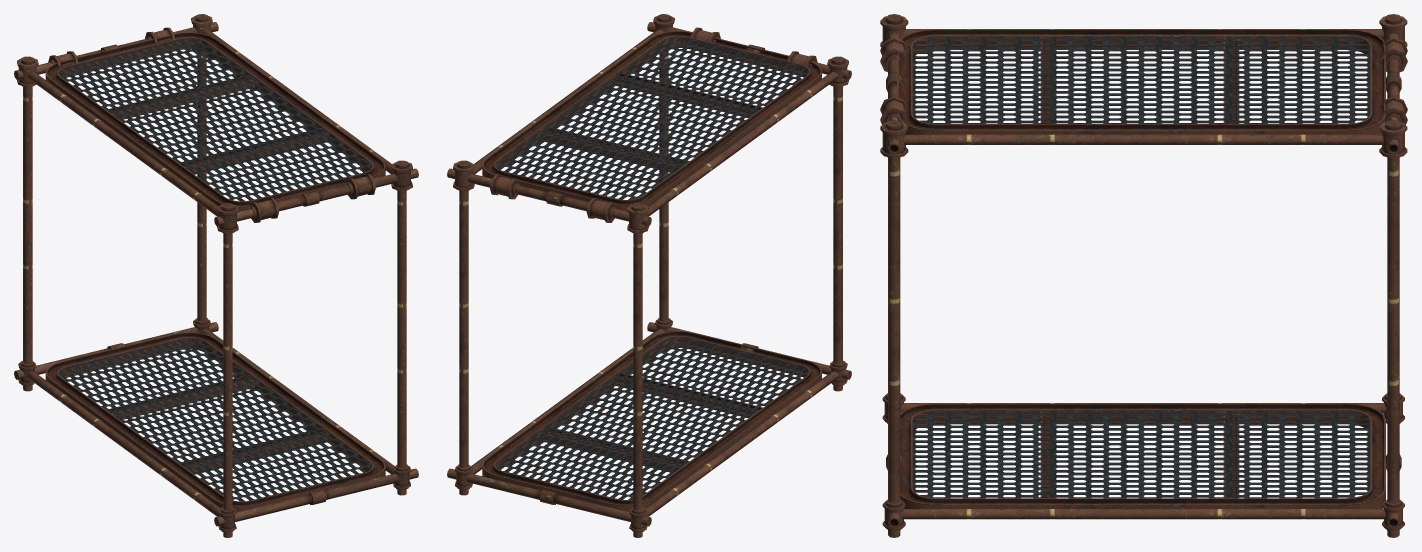
File: scaffold_walkway_hanging.dae
3 views of the same model, side by side, from view 1: azimuth 30°, elevation 25°; view 2: azimuth 150°, elevation 25°; view 3: azimuth 270°, elevation 25° (orthographic). The views are drawn at different scales.
Parts seen in each view (by area): view 1: polySurface127, pPlane1, pPlane3, polySurface131, polySurface130; view 2: polySurface127, pPlane1, pPlane3, polySurface131, polySurface130; view 3: pPlane3, pPlane1, polySurface127, polySurface131, polySurface130.
Part boxes in pixels (<box>): polySurface127: <box>14,14,418,537</box>; pPlane1: <box>59,38,372,201</box>; pPlane3: <box>59,338,372,501</box>; polySurface131: <box>45,332,385,511</box>; polySurface130: <box>45,32,385,211</box>; polySurface127: <box>447,14,851,537</box>; pPlane1: <box>495,37,808,199</box>; pPlane3: <box>495,337,808,499</box>; polySurface131: <box>482,331,821,511</box>; polySurface130: <box>482,31,821,211</box>; pPlane3: <box>912,411,1370,498</box>; pPlane1: <box>912,37,1370,123</box>; polySurface127: <box>880,14,1407,537</box>; polySurface131: <box>900,403,1385,508</box>; polySurface130: <box>897,29,1385,134</box>.
Size of the model in its own units: 2.3 by 3.62 by 4.21.
